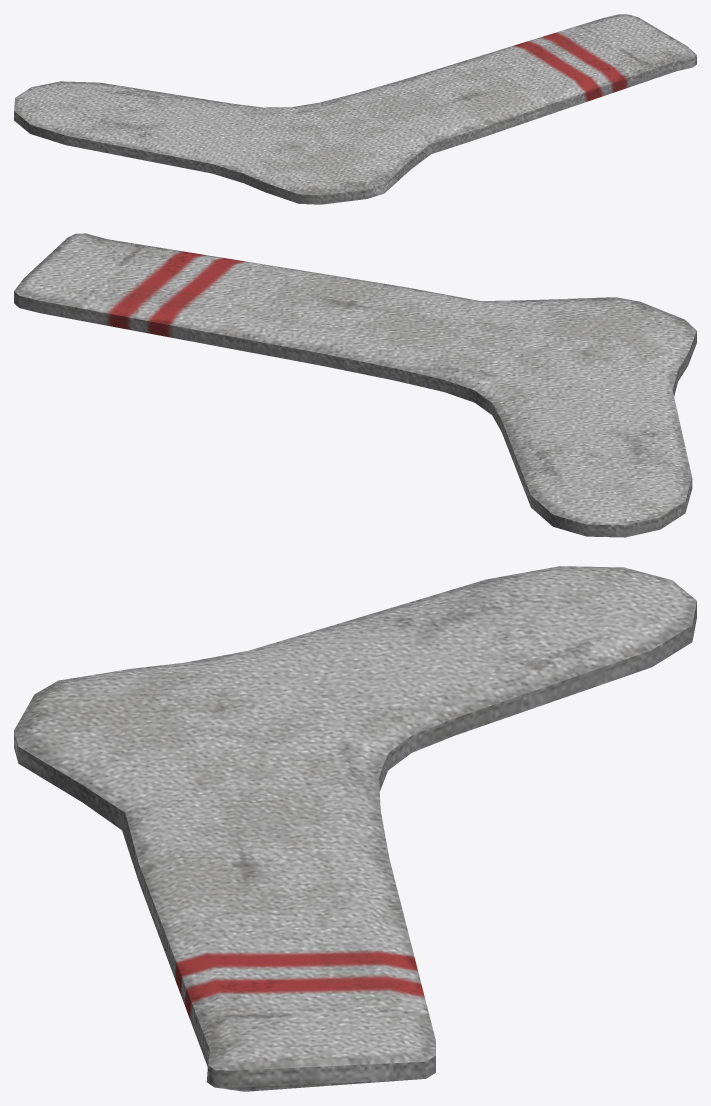
The model's file is SM_Sock_01.fbx.
3 renders of one model, top to bottom at view 1: azimuth 30°, elevation 25°; view 2: azimuth 150°, elevation 25°; view 3: azimuth 270°, elevation 25°, orthographic. The views are drawn at different scales.
Parts seen in each view (by area): view 1: SM_Sock_01_LOD0; view 2: SM_Sock_01_LOD0; view 3: SM_Sock_01_LOD0.
Part boxes in pixels (x1,y1,x2,y2): SM_Sock_01_LOD0: [14, 14, 696, 204]; SM_Sock_01_LOD0: [14, 233, 696, 537]; SM_Sock_01_LOD0: [14, 566, 696, 1091].
Size of the model in its own units: 32.59 by 18.65 by 1.11.
Materials: 1 (1 with a texture image).
